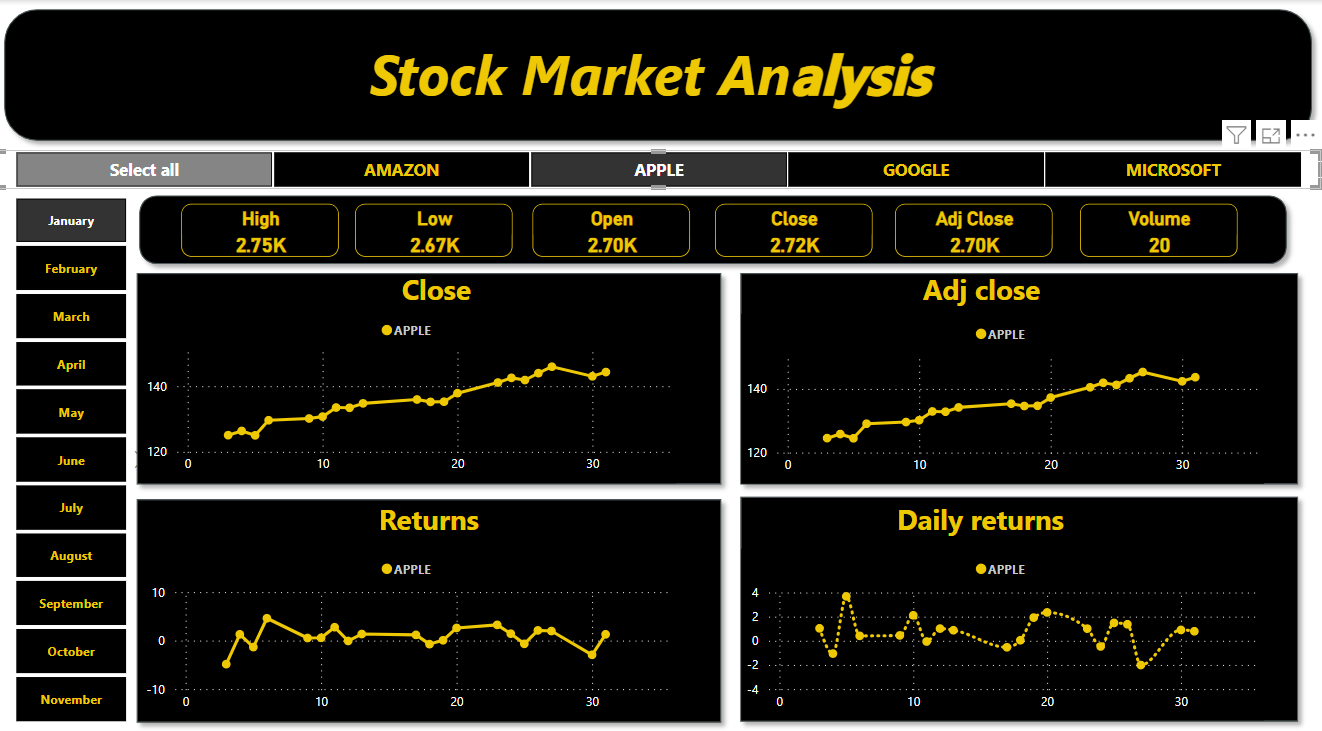

Layout of this report page (visuals, bound fields, positions):
{"tool":"powerbi","page":{"name":"Page 2","canvas":[1280,720],"ordinal":0},"visuals":[{"type":"shape","box":[0,0,1280,145],"z":0},{"type":"slicer","fields":{"Values":["Table1.company_name"]},"box":[0,145,1279,37.5],"z":1000},{"type":"slicer","fields":{"Values":["Table1.Date.Variation.Date Hierarchy.Month"]},"box":[0,189,145,508],"z":2000},{"type":"shape","box":[128.2,254.9,581.8,221.8],"z":3000},{"type":"textbox","box":[171,28.9,921.1,105.4],"z":4000},{"type":"lineChart","fields":{"Y":["Sum(Table1 (2).Close)"],"Series":["Table1 (2).company_name"],"Category":["Table1 (2).Date.Variation.Date Hierarchy.Day"]},"box":[141.1,299.5,515.5,167],"z":5000},{"type":"textbox","box":[270,256,311,46.1],"z":6000},{"type":"shape","box":[709.9,254.9,555.8,221.8],"z":7000},{"type":"textbox","box":[819.4,256,273,46.1],"z":8000},{"type":"shape","box":[709.9,470.9,555.8,234.7],"z":9000},{"type":"textbox","box":[819.4,477,256.3,46.1],"z":10000},{"type":"lineChart","fields":{"Y":["Sum(Table1 (2).Daily Return)"],"Series":["Table1 (2).company_name"],"Category":["Table1 (2).Date.Variation.Date Hierarchy.Day"]},"box":[720,529.9,504,165.6],"z":11000},{"type":"lineChart","fields":{"Y":["Sum(Table1 (2).Adj Close)"],"Series":["Table1 (2).company_name"],"Category":["Table1 (2).Date.Variation.Date Hierarchy.Day"]},"box":[720,302.4,504,164.2],"z":12000},{"type":"shape","box":[130,180,1125,84],"z":13000},{"type":"card","title":"High","fields":{"Values":["Sum(Table1 (2).High)"]},"box":[180,196,152,51],"z":14000},{"type":"shape","box":[128.2,472.3,581.8,233.3],"z":15000},{"type":"textbox","box":[270.7,477,296.6,46.1],"z":16000},{"type":"lineChart","fields":{"Y":["Sum(Table1 (2).returns)"],"Series":["Table1 (2).company_name"],"Category":["Table1 (2).Date.Variation.Date Hierarchy.Day"]},"box":[141.1,529.9,515.5,165.6],"z":17000},{"type":"card","title":"Low","fields":{"Values":["Sum(Table1 (2).Low)"]},"box":[347,196,152,51],"z":18000},{"type":"card","title":"Open","fields":{"Values":["Sum(Table1 (2).Open)"]},"box":[518.4,196,152,51],"z":19000},{"type":"card","title":"Close","fields":{"Values":["Sum(Table1 (2).Close)"]},"box":[694.1,196,152,51],"z":20000},{"type":"card","title":"Adj Close","fields":{"Values":["Sum(Table1 (2).Adj Close)"]},"box":[868.3,196,152,51],"z":21000},{"type":"card","title":"Volume","fields":{"Values":["CountNonNull(Table1 (2).Volume)"]},"box":[1046.9,196,152,51],"z":22000}]}

Visuals, with their boxes in screenshot pixels (x1, y1, x2, y2):
shape: bbox=(0, 0, 1309, 147)
slicer - Table1.company_name: bbox=(0, 147, 1308, 186)
slicer - Table1.Date.Variation.Date Hierarchy.Month: bbox=(0, 192, 133, 719)
shape: bbox=(116, 261, 719, 491)
textbox: bbox=(160, 27, 1115, 136)
lineChart - Sum(Table1 (2).Close) x Table1 (2).company_name: bbox=(129, 307, 663, 480)
textbox: bbox=(263, 262, 585, 310)
shape: bbox=(719, 261, 1295, 491)
textbox: bbox=(832, 262, 1115, 310)
shape: bbox=(719, 485, 1295, 728)
textbox: bbox=(832, 491, 1098, 539)
lineChart - Sum(Table1 (2).Daily Return) x Table1 (2).company_name: bbox=(729, 546, 1251, 717)
lineChart - Sum(Table1 (2).Adj Close) x Table1 (2).company_name: bbox=(729, 310, 1251, 480)
shape: bbox=(118, 183, 1283, 270)
"High" card: bbox=(169, 200, 327, 253)
shape: bbox=(116, 486, 719, 728)
textbox: bbox=(263, 491, 571, 539)
lineChart - Sum(Table1 (2).returns) x Table1 (2).company_name: bbox=(129, 546, 663, 717)
"Low" card: bbox=(342, 200, 500, 253)
"Open" card: bbox=(520, 200, 678, 253)
"Close" card: bbox=(702, 200, 860, 253)
"Adj Close" card: bbox=(883, 200, 1040, 253)
"Volume" card: bbox=(1068, 200, 1225, 253)
